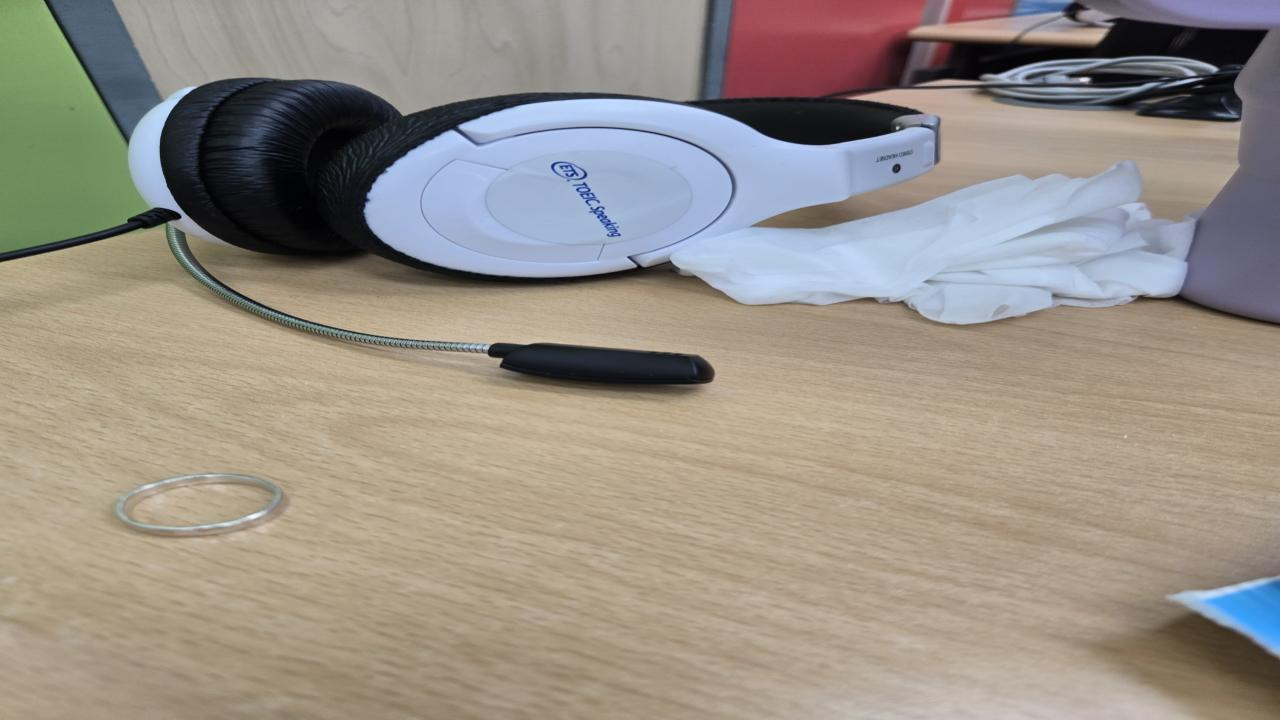ring: (108, 472, 290, 538)
